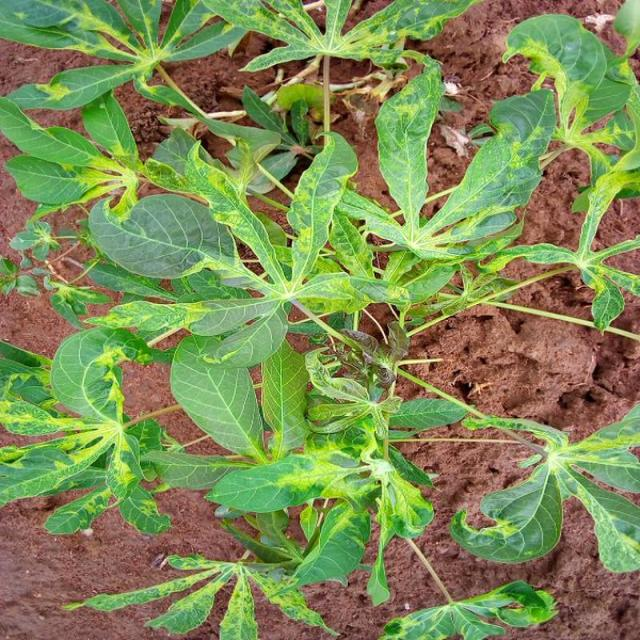Mosaico: (184, 138, 427, 333), (14, 305, 178, 545), (351, 85, 511, 265), (253, 403, 446, 550), (460, 383, 640, 539), (11, 92, 205, 213), (496, 24, 640, 183), (204, 0, 442, 69), (387, 579, 605, 640)
